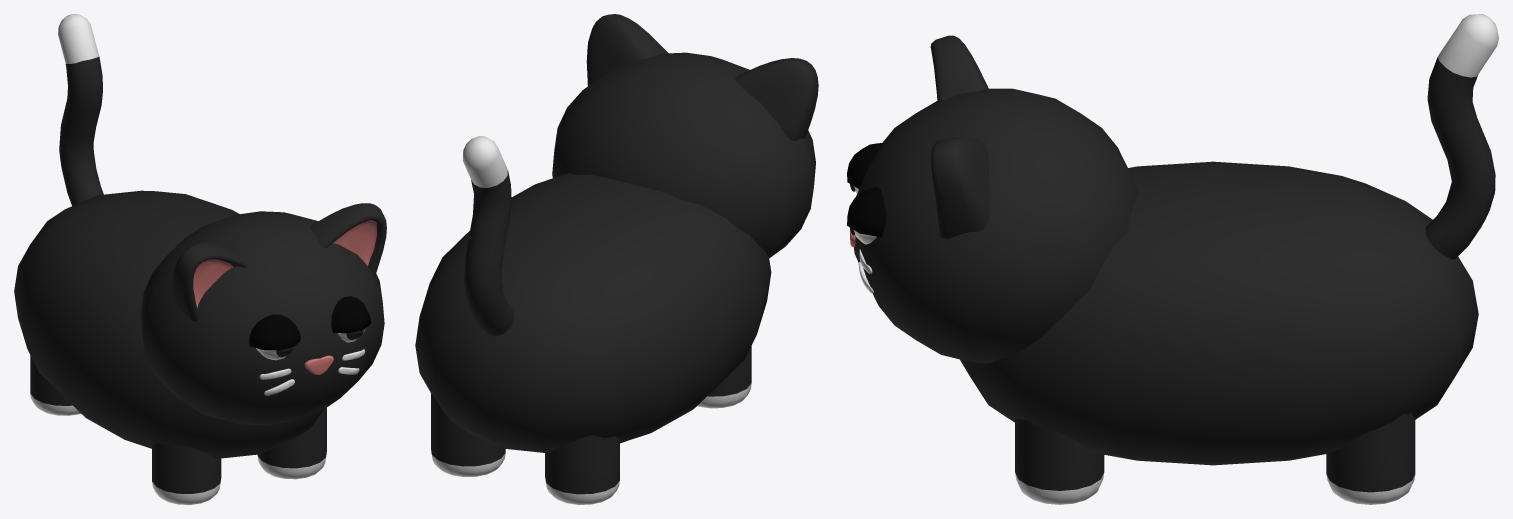
Rendered from Cat.fbx.
3 renders of one model, left to right at view 1: azimuth 30°, elevation 25°; view 2: azimuth 150°, elevation 25°; view 3: azimuth 270°, elevation 25°, orthographic. The views are drawn at different scales.
Visible parts, largest first — view 1: CatBlack; view 2: CatBlack; view 3: CatBlack.
Part boxes in pixels (x1=…): CatBlack: x1=14, y1=14, x2=386, y2=504; CatBlack: x1=415, y1=14, x2=818, y2=504; CatBlack: x1=847, y1=14, x2=1498, y2=504.
Bounding box in the file's own units: 37.48 × 50.8 × 67.88.
